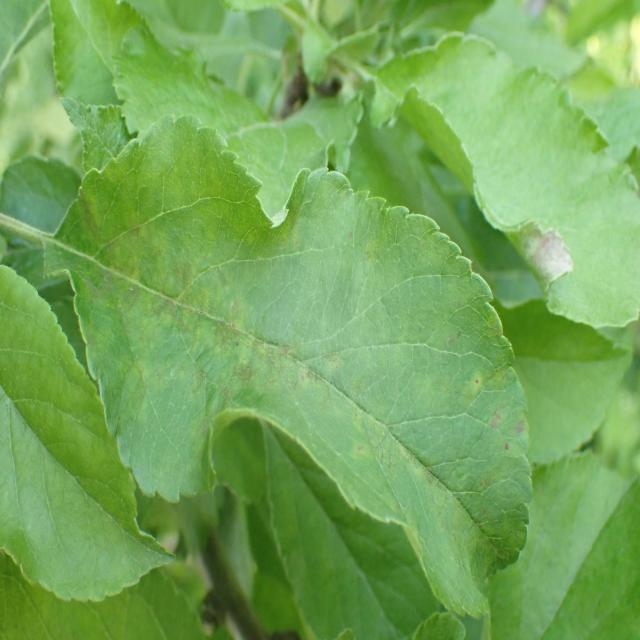scab: (48, 150, 526, 543)
